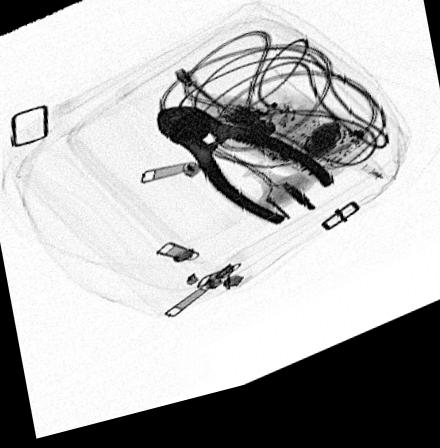Pliers: (151, 110, 343, 242)
